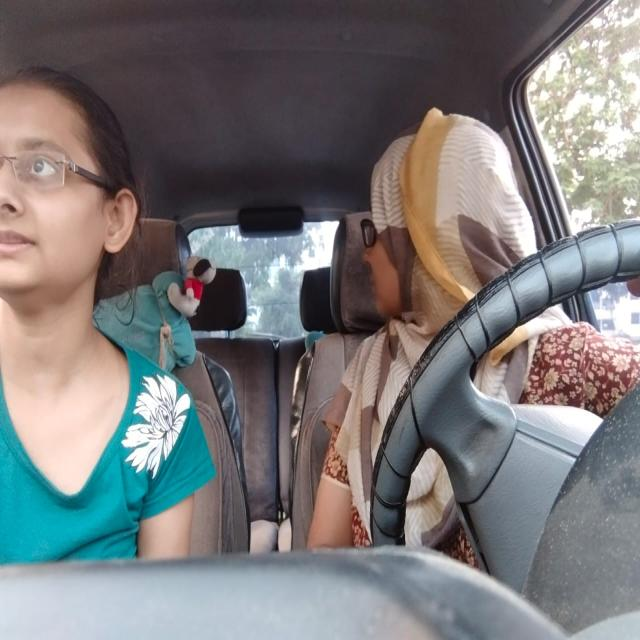LeftRight: (359, 148, 413, 333)
person: (0, 75, 134, 301)
